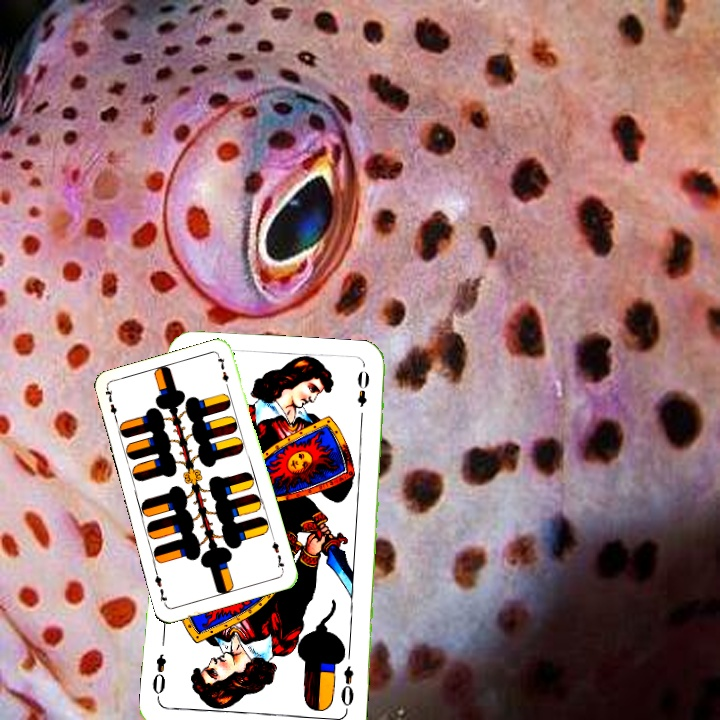E7: (101, 386, 121, 425), (268, 534, 287, 574)
EO: (337, 662, 357, 714)
